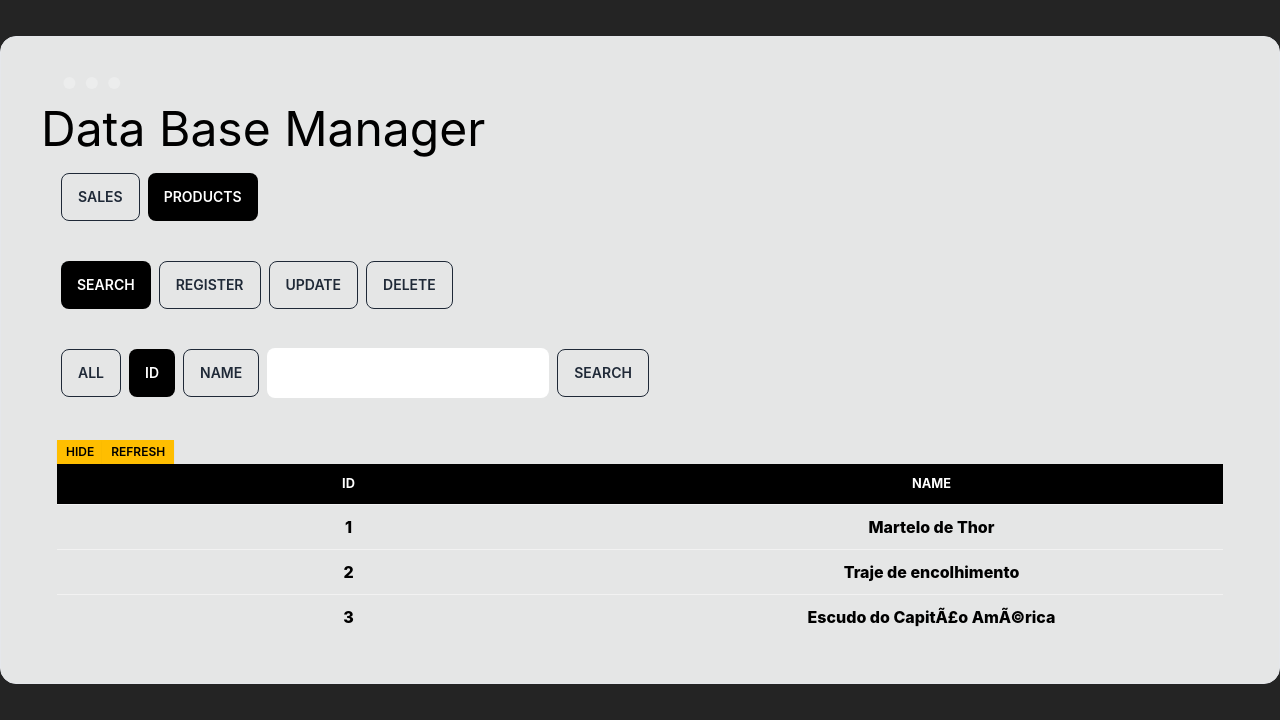
Test: PRODUCTS FUNCTION - TEST › Search by "NAME"
Step 1. Click the button "name" → (221, 373), box [183,349,259,397]
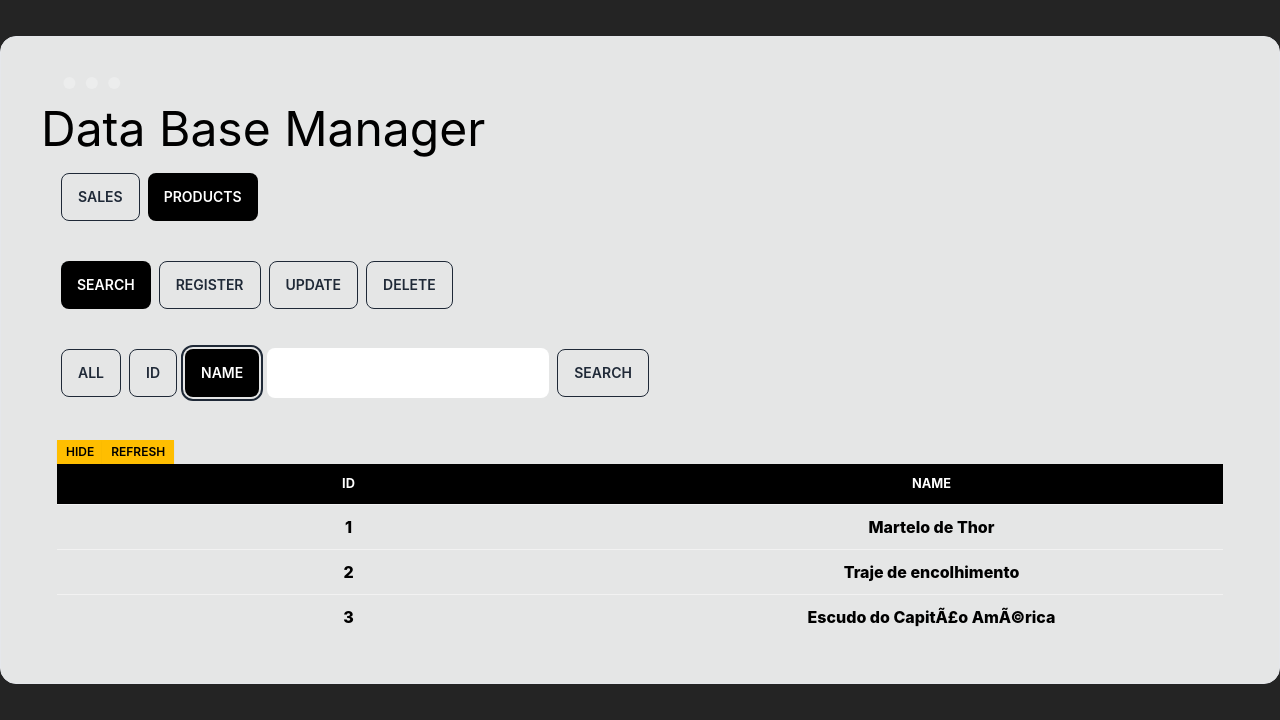
Step 2. Type "Espada" into the field → (408, 373), box [267,348,549,398]
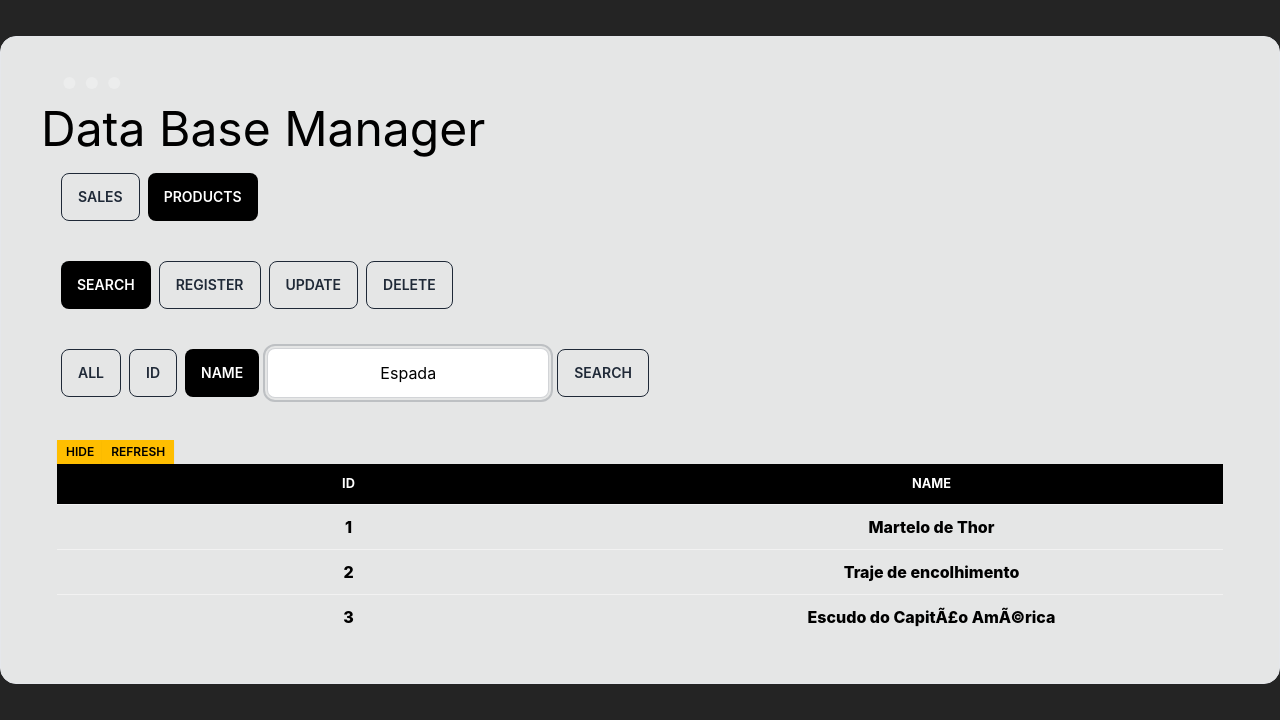
Step 3. Click the button "SEARCH" → (603, 373), box [557,349,649,397]
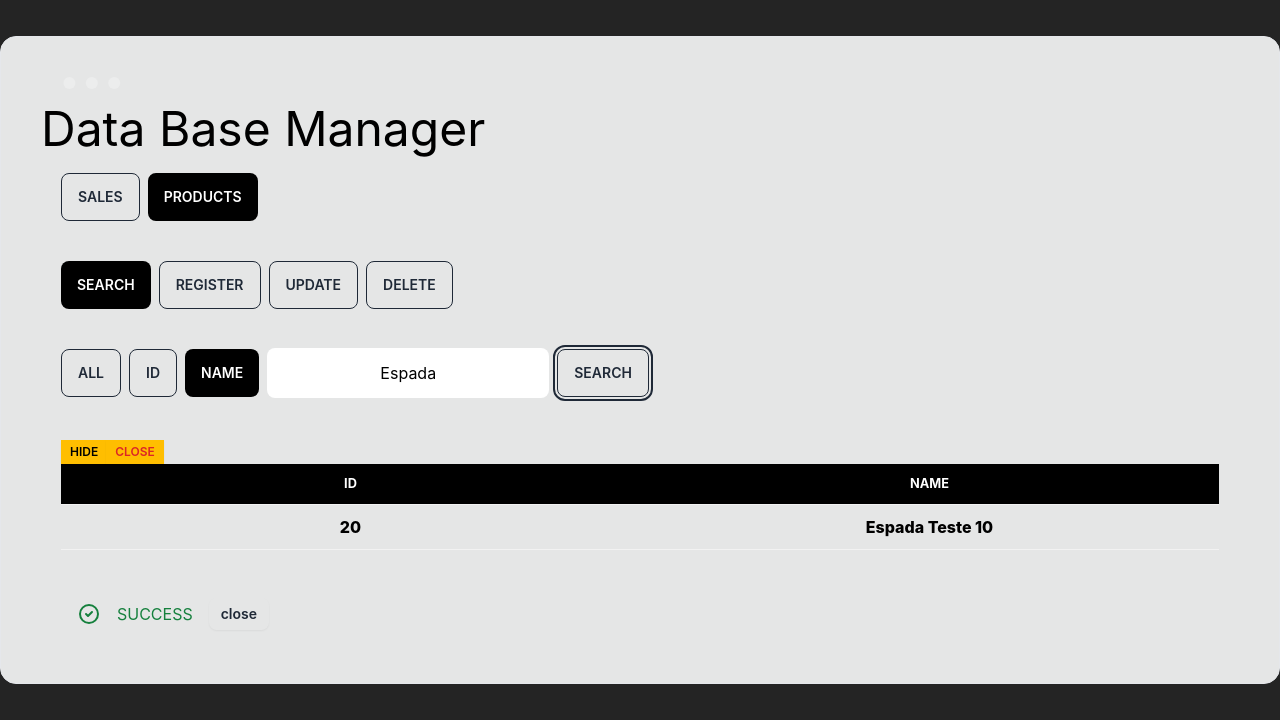
Check: the row "20 Espada Teste 10" is shown, box [61,504,1219,550]
Check: the text "SUCCESS" is shown, box [117,604,193,624]
